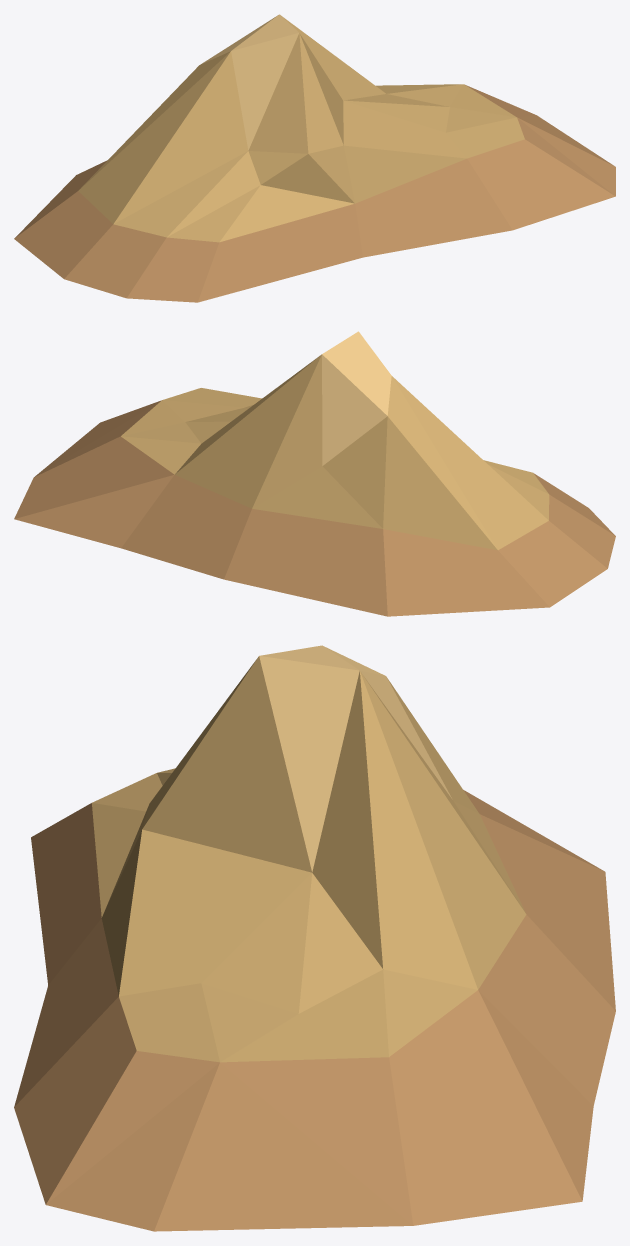
The model's file is TB_D_Env_MtC_A.FBX.
3 views of the same model, one above another, from view 1: azimuth 30°, elevation 25°; view 2: azimuth 150°, elevation 25°; view 3: azimuth 270°, elevation 25° (orthographic). The views are drawn at different scales.
Parts seen in each view (by area): view 1: TB_D_Env_MtC_A; view 2: TB_D_Env_MtC_A; view 3: TB_D_Env_MtC_A.
Part boxes in pixels (bbox=[...]): TB_D_Env_MtC_A: bbox=[14, 14, 615, 302]; TB_D_Env_MtC_A: bbox=[14, 331, 615, 616]; TB_D_Env_MtC_A: bbox=[14, 645, 615, 1231].
Size of the model in its own units: 23.91 by 7.89 by 13.21.
